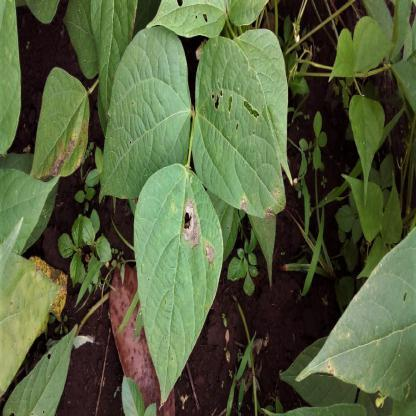Beans_Angular_LeafSpot: (190, 42, 288, 247), (136, 162, 215, 406), (31, 65, 90, 179)
